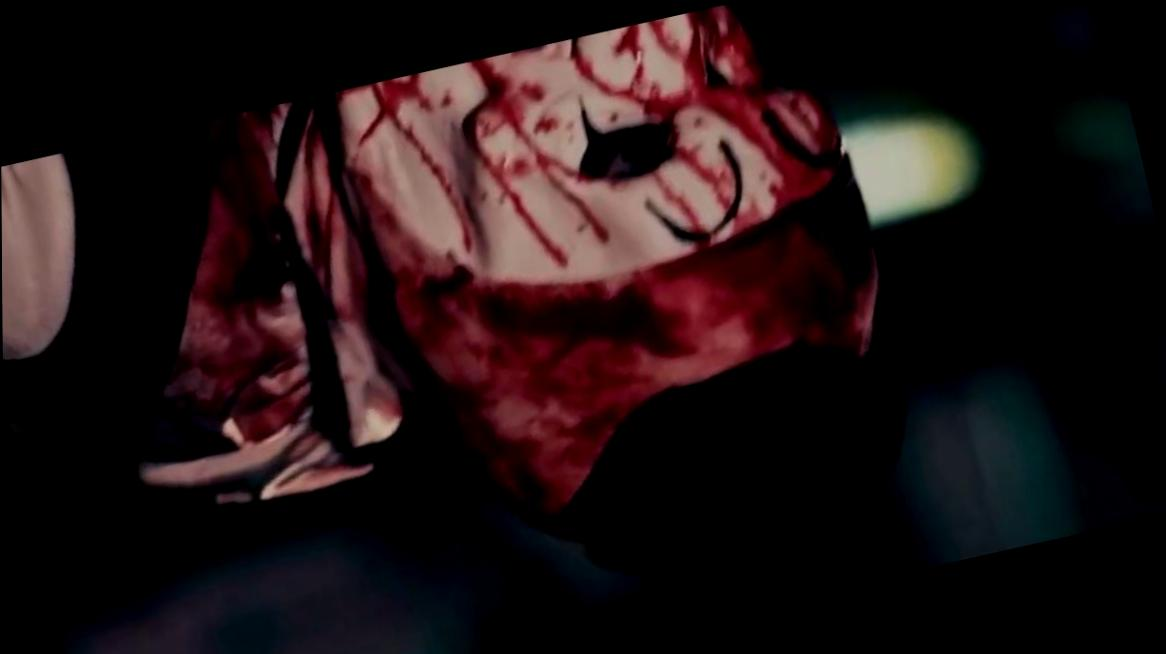Fire: (162, 4, 875, 513)
